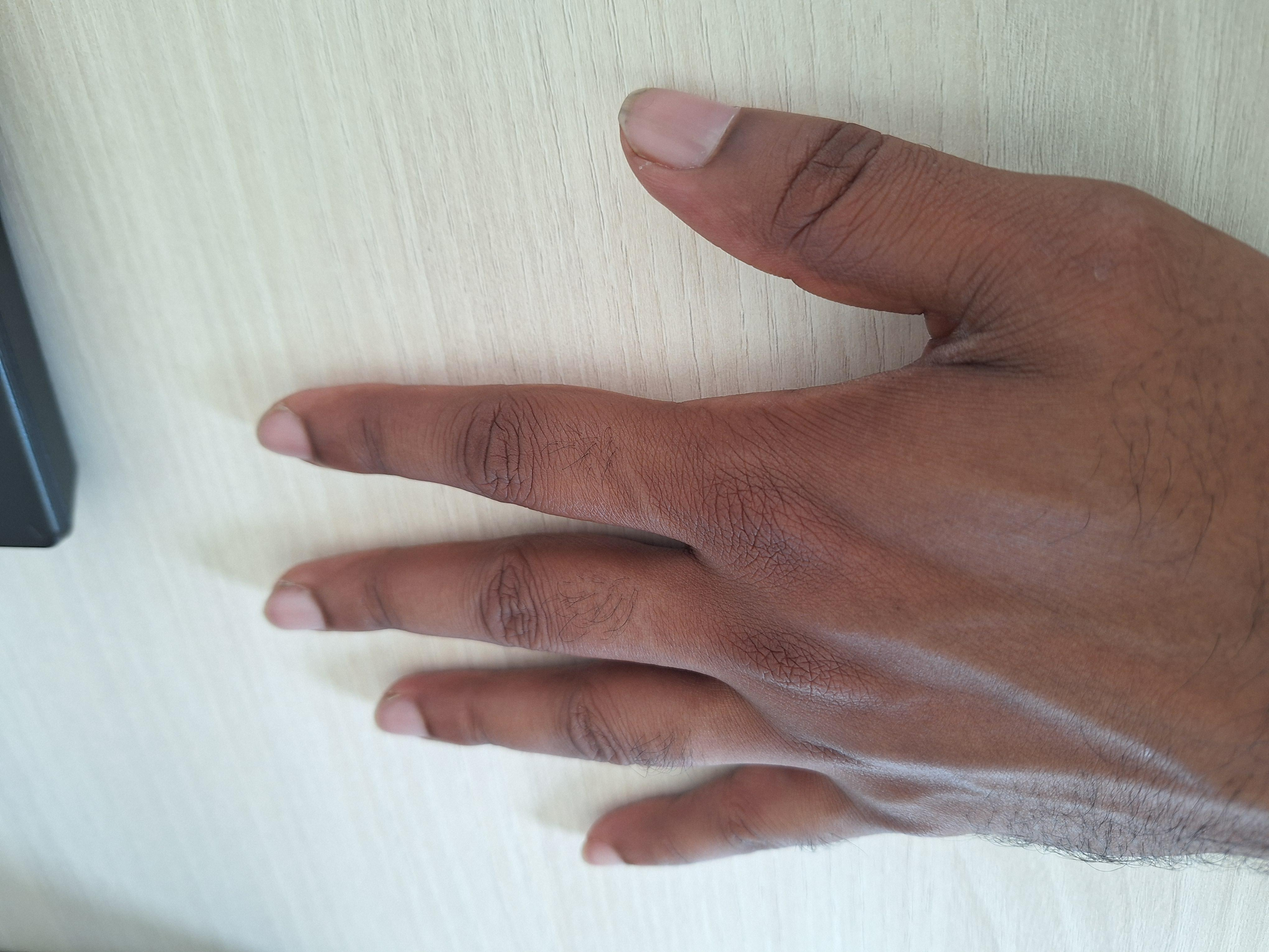Fingernail: (619, 86, 738, 169), (257, 406, 310, 460), (264, 586, 325, 631), (376, 694, 427, 737), (582, 838, 622, 867)
